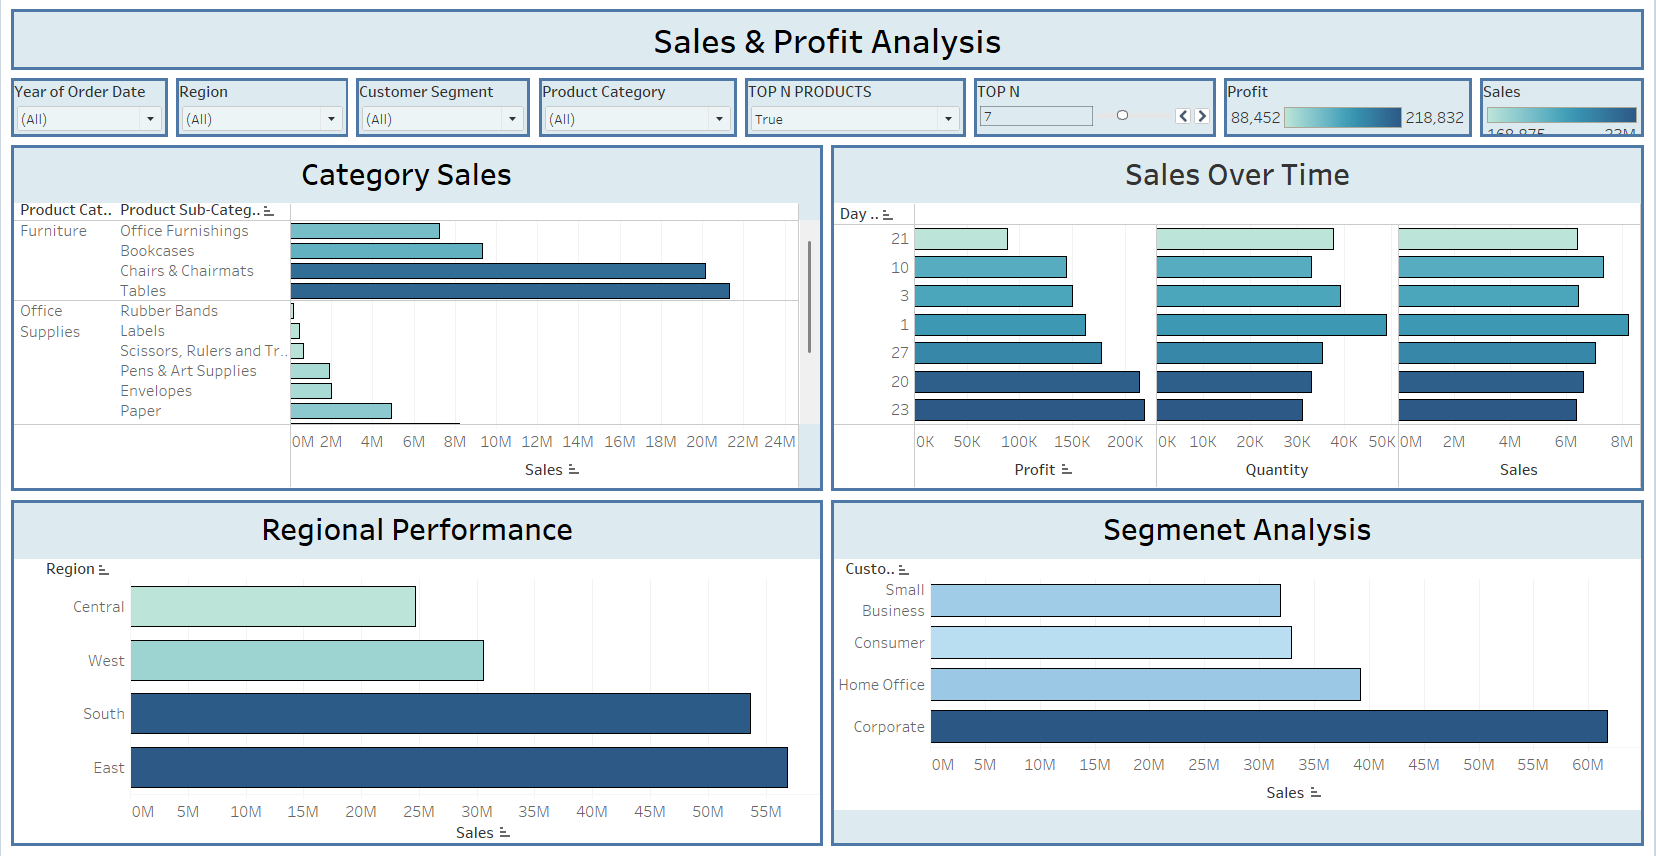

The page's visual inventory and layout, read from the dashboard file:
{"tool":"tableau","page":{"name":"Sales & Profit Analysis","canvas":[1000,1000],"units":"permille","ordinal":3},"visuals":[{"type":"text","box":[4.8,10,990.3,79.9]},{"type":"filter","title":"Sales Over Time","param":"[federated.0lc2qp609r7qte17zzql31nmvyj1].[yr:Order Date:ok]","box":[4.8,89.9,99.5,78.1]},{"type":"filter","title":"Sales Over Time","param":"[federated.0lc2qp609r7qte17zzql31nmvyj1].[none:Region:nk]","box":[104.3,89.9,108.9,78.1]},{"type":"filter","title":"Sales Over Time","param":"[federated.0lc2qp609r7qte17zzql31nmvyj1].[none:Customer Segment:nk]","box":[213.3,89.9,110.1,78.1]},{"type":"filter","title":"Sales Over Time","param":"[federated.0lc2qp609r7qte17zzql31nmvyj1].[none:Product Category:nk]","box":[323.4,89.9,124.2,78.1]},{"type":"filter","title":"Sales Over Time","param":"[federated.0lc2qp609r7qte17zzql31nmvyj1].[usr:Calculation_1046242514060480512:nk","box":[447.5,89.9,138.2,78.1]},{"type":"parameter","param":"[Parameters].[Parameter 1]","box":[585.7,89.9,151.1,78.1]},{"type":"legend","title":"Sales Over Time","param":"[federated.0lc2qp609r7qte17zzql31nmvyj1].[sum:Profit:qk]","box":[736.9,89.9,154.8,78.1]},{"type":"legend","title":"Category Sales","param":"[federated.0lc2qp609r7qte17zzql31nmvyj1].[sum:Sales:qk]","box":[891.6,89.9,103.5,78.1]},{"type":"worksheet","title":"Category Sales","mark":"Automatic","rows":["Product Category","Product Sub-Category"],"cols":["Sales"],"box":[4.8,168,495.1,411]},{"type":"worksheet","title":"Sales Over Time","mark":"Bar","rows":["Order Date"],"cols":["Profit","Quantity","Sales"],"box":[499.9,168,495.2,411]},{"type":"worksheet","title":"Regional Performance","mark":"Automatic","rows":["Region"],"cols":["Sales"],"box":[4.8,579,495.1,411]},{"type":"worksheet","title":"Segmenet Analysis","mark":"Automatic","rows":["Customer Segment"],"cols":["Sales"],"box":[499.9,579,495.2,411]}]}

Visuals, with their boxes on the dashboard's canvas, which has no fixed pixel size, in thousandths of its width and height (x1, y1, x2, y2). These are canvas units, not pixel positions in the 1656x856 screenshot, which may show the page scaled, cropped or inside an application window:
text: crop(5, 10, 995, 90)
"Sales Over Time" filter: crop(5, 90, 104, 168)
"Sales Over Time" filter: crop(104, 90, 213, 168)
"Sales Over Time" filter: crop(213, 90, 323, 168)
"Sales Over Time" filter: crop(323, 90, 448, 168)
"Sales Over Time" filter: crop(448, 90, 586, 168)
parameter: crop(586, 90, 737, 168)
"Sales Over Time" legend: crop(737, 90, 892, 168)
"Category Sales" legend: crop(892, 90, 995, 168)
"Category Sales" worksheet: crop(5, 168, 500, 579)
"Sales Over Time" worksheet (Bar marks): crop(500, 168, 995, 579)
"Regional Performance" worksheet: crop(5, 579, 500, 990)
"Segmenet Analysis" worksheet: crop(500, 579, 995, 990)
